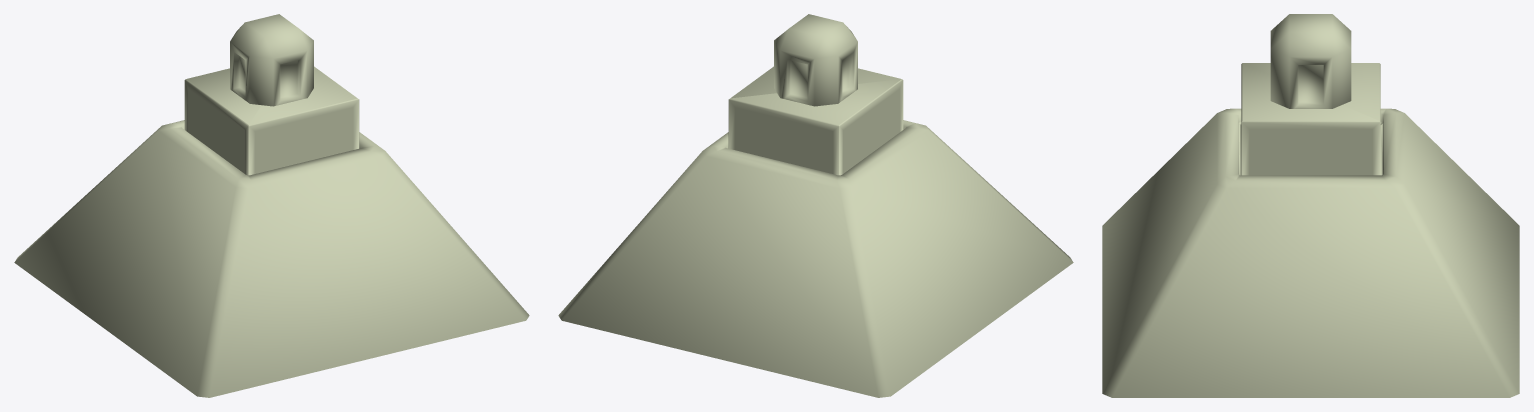
The model's file is Pyramid_Four-Sides_001.obj.
3 views of the same model, side by side, from view 1: azimuth 30°, elevation 25°; view 2: azimuth 150°, elevation 25°; view 3: azimuth 270°, elevation 25° (orthographic). The views are drawn at different scales.
Parts seen in each view (by area): view 1: Cube1, Cube3; view 2: Cube1, Cube3; view 3: Cube1, Cube3.
Boxes of the visible parts, box(x1,y1,x2,y2) form: Cube1: box(14, 66, 529, 397); Cube3: box(230, 14, 313, 106); Cube1: box(558, 66, 1073, 397); Cube3: box(774, 14, 857, 106); Cube1: box(1102, 63, 1519, 397); Cube3: box(1270, 14, 1351, 108).
Bounding box in the file's own units: 4.58 × 3.47 × 4.58.
